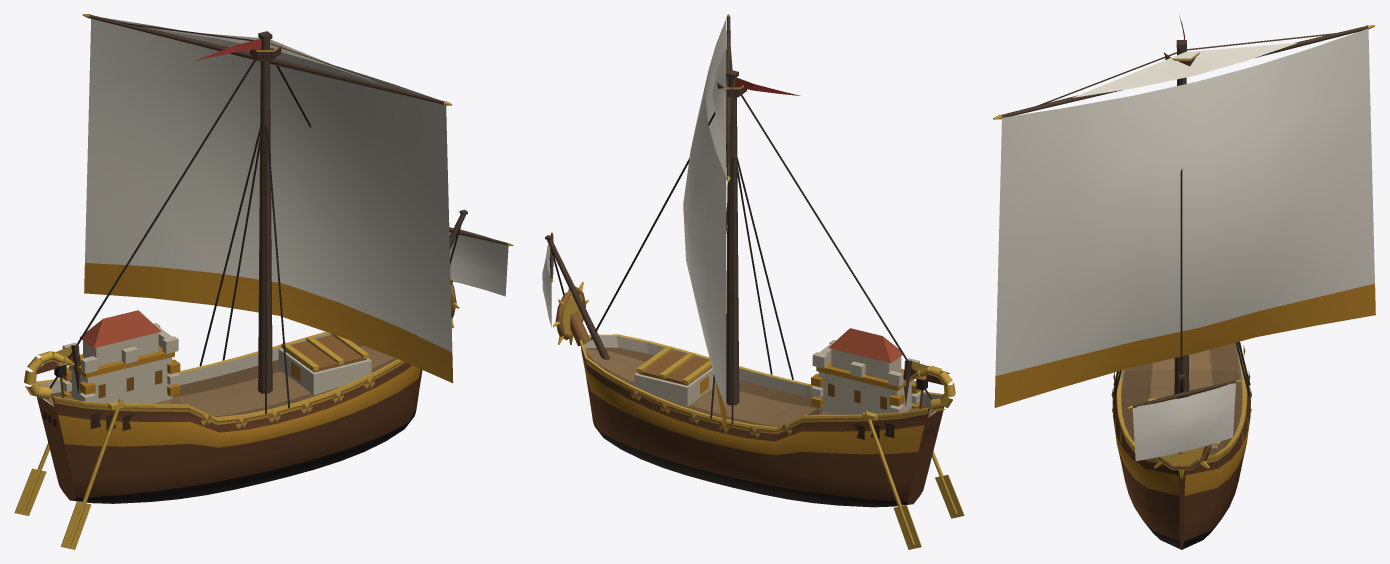
The model's file is titan_dai.glb.
3 views of the same model, side by side, from view 1: azimuth 30°, elevation 25°; view 2: azimuth 150°, elevation 25°; view 3: azimuth 270°, elevation 25° (orthographic). The views are drawn at different scales.
Parts seen in each view (by area): view 1: sail_main, hull, deck, mast, rigging, yards, stern_windows, sail_extra, flag; view 2: hull, deck, sail_main, mast, rigging, yards, sail_extra, stern_windows, flag; view 3: sail_main, hull, sail_extra, yards, rigging, mast.
Boxes of the visible parts, x1,y1,x2,y2 form: sail_main: [84, 18, 508, 382]; hull: [24, 279, 459, 503]; deck: [14, 310, 371, 549]; mast: [71, 31, 467, 393]; rigging: [49, 48, 460, 413]; yards: [82, 14, 513, 245]; stern_windows: [43, 345, 300, 430]; sail_extra: [160, 29, 374, 81]; flag: [32, 39, 261, 374]; hull: [553, 282, 955, 507]; deck: [634, 328, 964, 549]; sail_main: [542, 19, 726, 437]; mast: [545, 70, 912, 405]; rigging: [550, 86, 931, 423]; yards: [549, 14, 732, 282]; sail_extra: [712, 47, 726, 143]; stern_windows: [700, 361, 937, 439]; flag: [735, 77, 950, 385]; sail_main: [994, 28, 1375, 461]; hull: [1111, 342, 1251, 549]; sail_extra: [1072, 42, 1297, 97]; yards: [993, 25, 1374, 408]; rigging: [1113, 78, 1250, 397]; mast: [1164, 40, 1199, 398].
Size of the model in its own units: 25.42 by 23.46 by 17.64.
